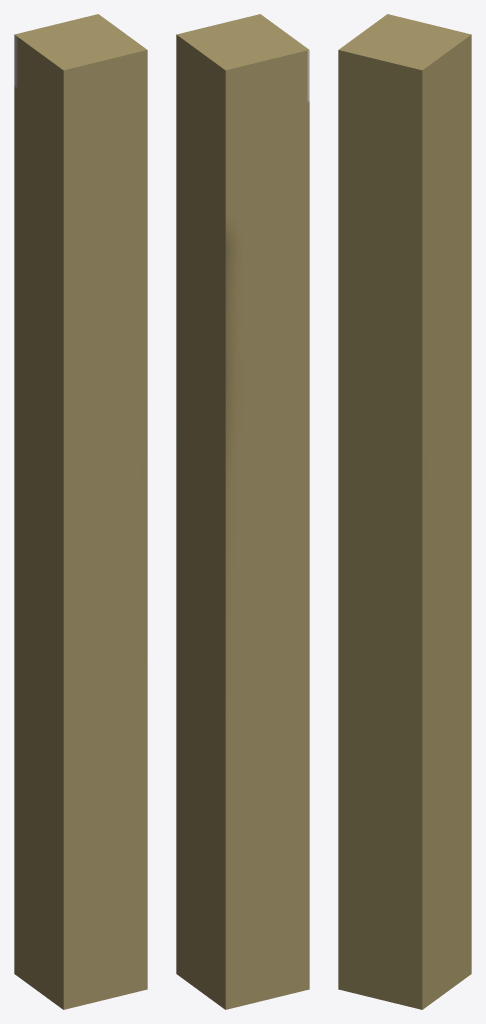
The model's file is crate fragments1.fbx.
3 views of the same model, side by side, from view 1: azimuth 30°, elevation 25°; view 2: azimuth 210°, elevation 25°; view 3: azimuth 330°, elevation 25° (orthographic).
Parts seen in each view (by area): view 1: CrateFragment1; view 2: CrateFragment1; view 3: CrateFragment1.
Boxes of the visible parts, bbox=[...] form: CrateFragment1: bbox=[14, 14, 147, 1009]; CrateFragment1: bbox=[176, 14, 309, 1009]; CrateFragment1: bbox=[338, 14, 471, 1009].
Size of the model in its own units: 34.83 by 372 by 35.25.
